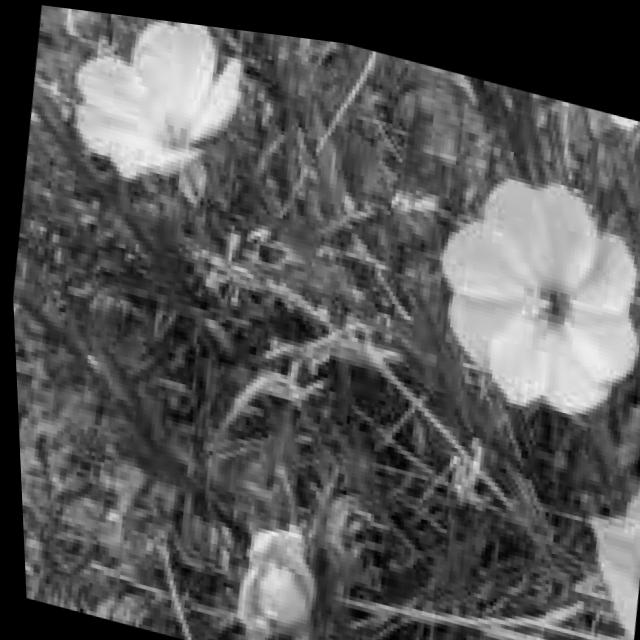Flower: (413, 134, 640, 416), (54, 5, 261, 220), (211, 492, 330, 640)
